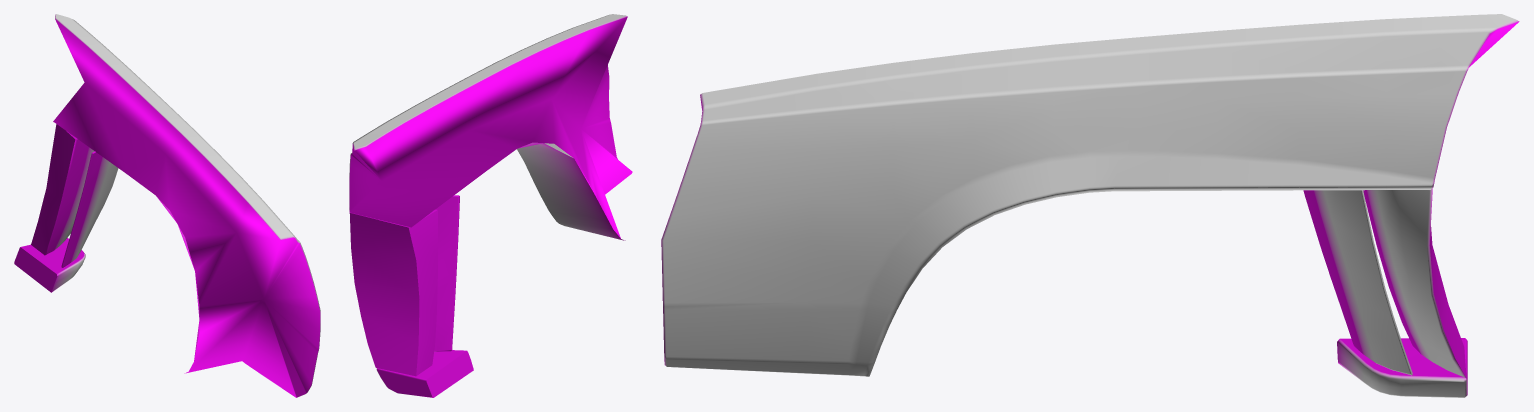
The model's file is Car_Buick_GrandNational_1987_FenderFL_SetB.fbx.
3 renders of one model, left to right at view 1: azimuth 30°, elevation 25°; view 2: azimuth 150°, elevation 25°; view 3: azimuth 270°, elevation 25°, orthographic. The views are drawn at different scales.
Parts seen in each view (by area): view 1: FenderFL 6; view 2: FenderFL 6; view 3: FenderFL 6.
Boxes of the visible parts, box(x1,y1,x2,y2) form: FenderFL 6: box(14, 14, 320, 397); FenderFL 6: box(349, 14, 632, 397); FenderFL 6: box(661, 14, 1519, 397).
Bounding box in the file's own units: 0.3065 × 0.7253 × 1.42.
